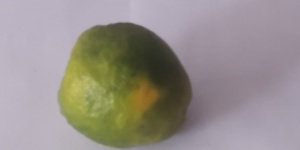BAD: (57, 21, 193, 148)
